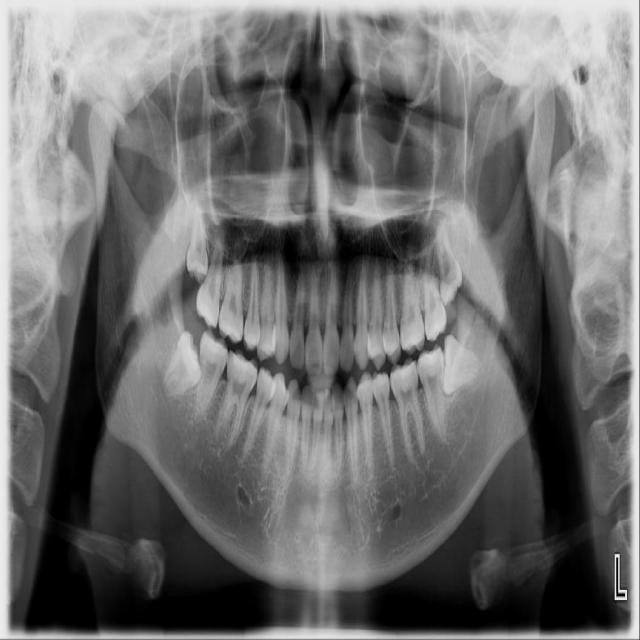impacted tooth: (161, 332, 200, 398), (443, 335, 486, 394), (436, 215, 462, 300), (186, 201, 208, 280)
